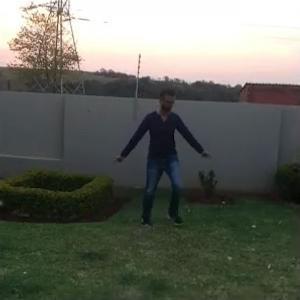land: (107, 77, 213, 232)
